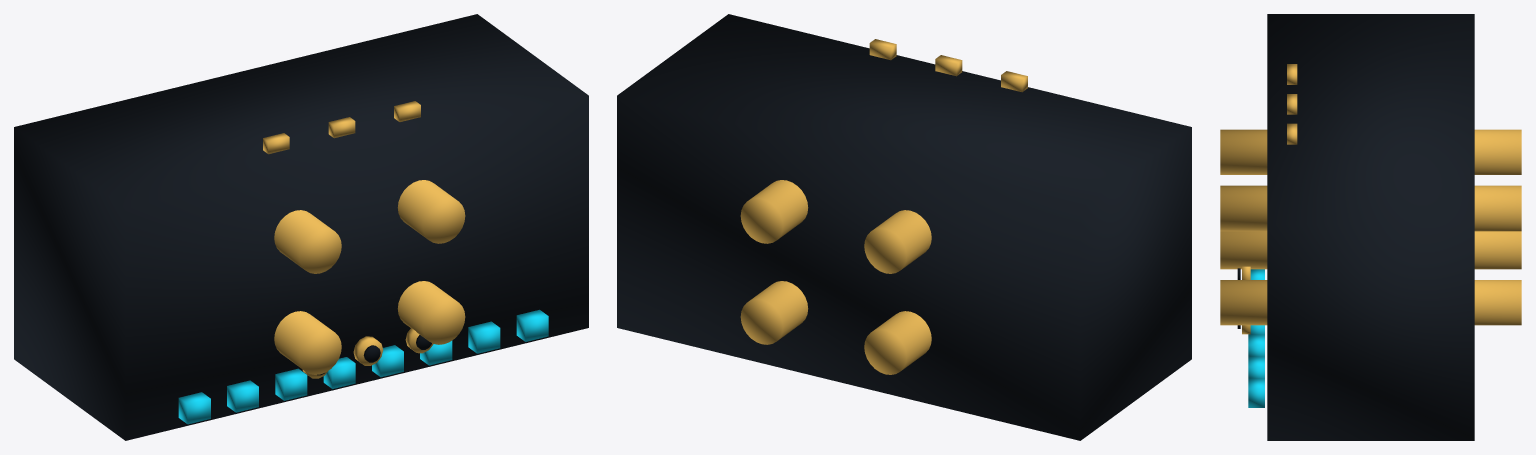
The model's file is 64_L93_MassDetectorMultiplier.fbx.
3 views of the same model, side by side, from view 1: azimuth 30°, elevation 25°; view 2: azimuth 150°, elevation 25°; view 3: azimuth 270°, elevation 25° (orthographic). The views are drawn at different scales.
Parts seen in each view (by area): view 1: L92_MassDetectorMultiplier_Part_0000, L92_MassDetectorMultiplier_Part_0001, L92_MassDetectorMultiplier_Part_0002, L92_MassDetectorMultiplier_Part_0003; view 2: L92_MassDetectorMultiplier_Part_0000, L92_MassDetectorMultiplier_Part_0001, L92_MassDetectorMultiplier_Part_0003; view 3: L92_MassDetectorMultiplier_Part_0000, L92_MassDetectorMultiplier_Part_0001, L92_MassDetectorMultiplier_Part_0002, L92_MassDetectorMultiplier_Part_0003.
Boxes of the visible parts, x1,y1,x2,y2 form: L92_MassDetectorMultiplier_Part_0000: (14,14,588,440); L92_MassDetectorMultiplier_Part_0001: (274,180,465,374); L92_MassDetectorMultiplier_Part_0002: (178,309,548,424); L92_MassDetectorMultiplier_Part_0003: (263,101,420,154); L92_MassDetectorMultiplier_Part_0000: (617,14,1191,440); L92_MassDetectorMultiplier_Part_0001: (740,180,931,374); L92_MassDetectorMultiplier_Part_0003: (869,39,1027,92); L92_MassDetectorMultiplier_Part_0000: (1267,14,1474,440); L92_MassDetectorMultiplier_Part_0001: (1220,129,1521,325); L92_MassDetectorMultiplier_Part_0002: (1248,269,1264,407); L92_MassDetectorMultiplier_Part_0003: (1287,64,1297,144).
Bounding box in the file's own units: 240 × 126 × 145.
